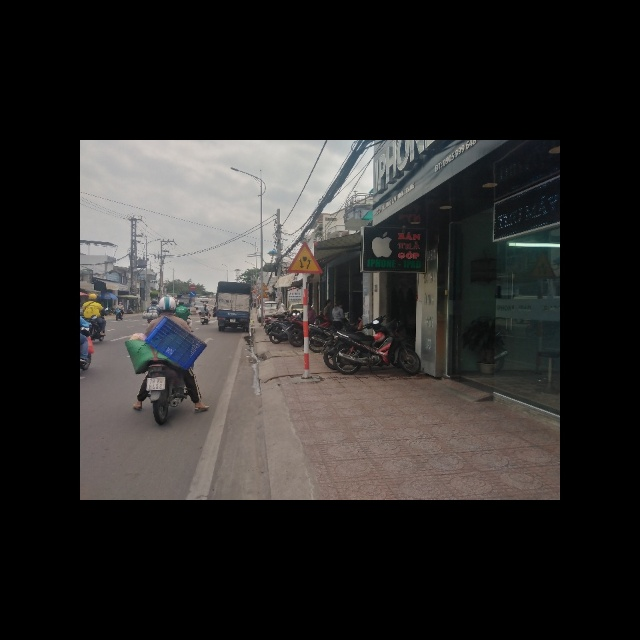Đường đôi: (285, 241, 323, 274)
